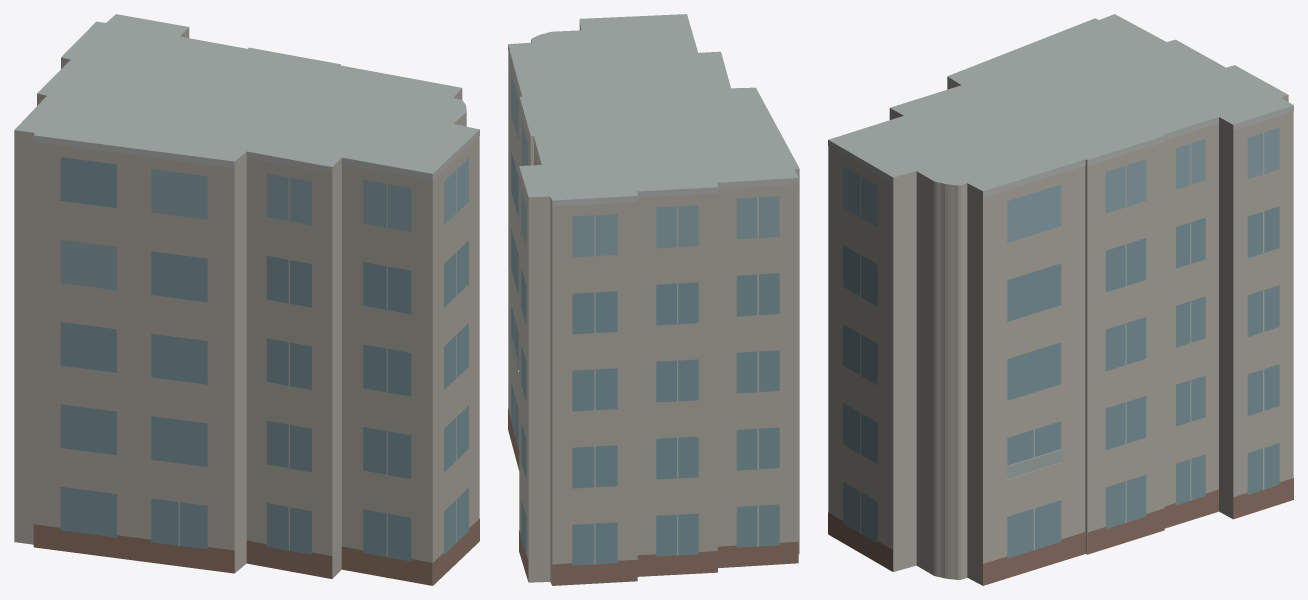
File: survey-upis-32930575.glb
The picture shows the model from 3 angles, left to right: view 1: azimuth 30°, elevation 25°; view 2: azimuth 150°, elevation 25°; view 3: azimuth 270°, elevation 25°; orthographic projection. The views are drawn at different scales.
Parts seen in each view (by area): view 1: survey-upis-32930575.tmp; view 2: survey-upis-32930575.tmp; view 3: survey-upis-32930575.tmp.
Part boxes in pixels (x1,y1,x2,y2): survey-upis-32930575.tmp: (14,14,479,585); survey-upis-32930575.tmp: (508,14,799,585); survey-upis-32930575.tmp: (828,14,1293,585).
Bounding box in the file's own units: 14.8 × 15.35 × 16.43.
